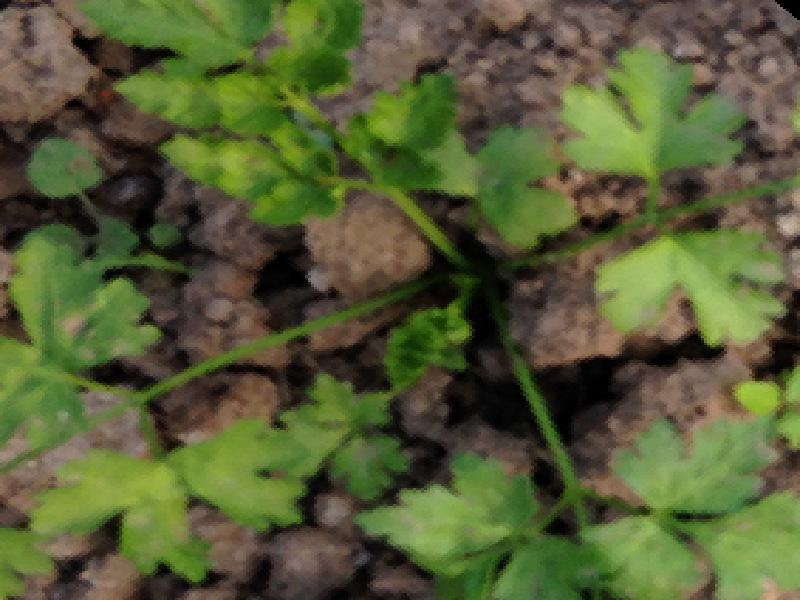radish: (42, 0, 800, 600)
